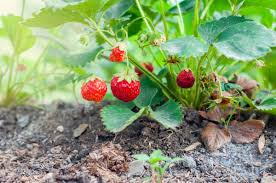ripe: (110, 72, 140, 102), (80, 74, 106, 102), (108, 43, 127, 63), (176, 67, 194, 88), (134, 60, 154, 76)
